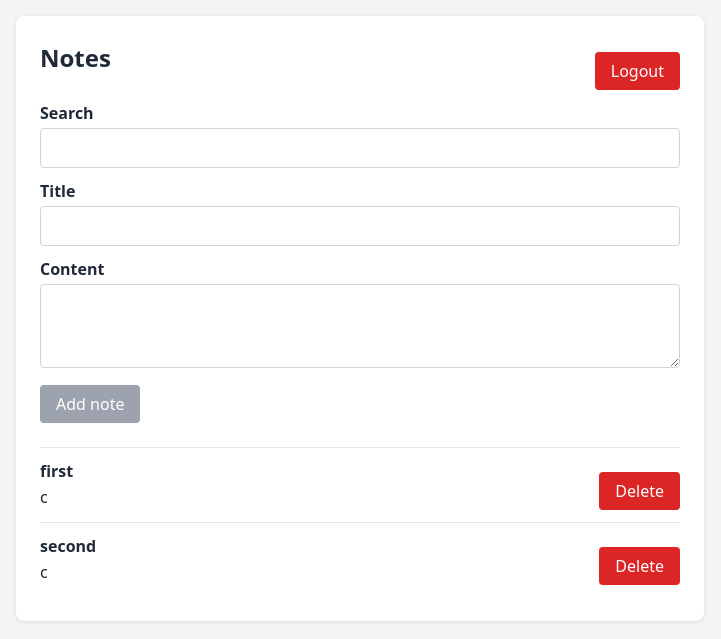
Test: NotesComponent › deleting a note removes it from the list
Click the button with class "delete" in the row of "first".
click(640, 491)  # box left=599, top=472, right=680, bottom=510
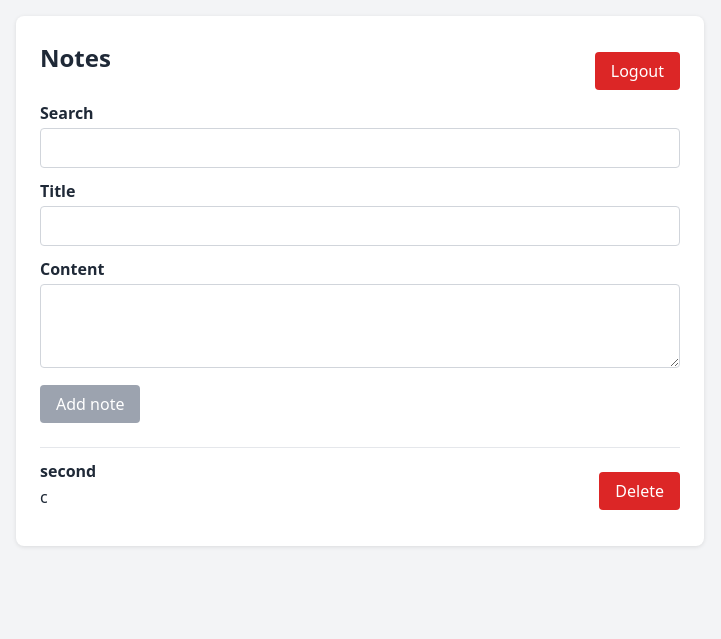
expect the number of list items with class "note" is 1: met, box left=40, top=447, right=680, bottom=522
